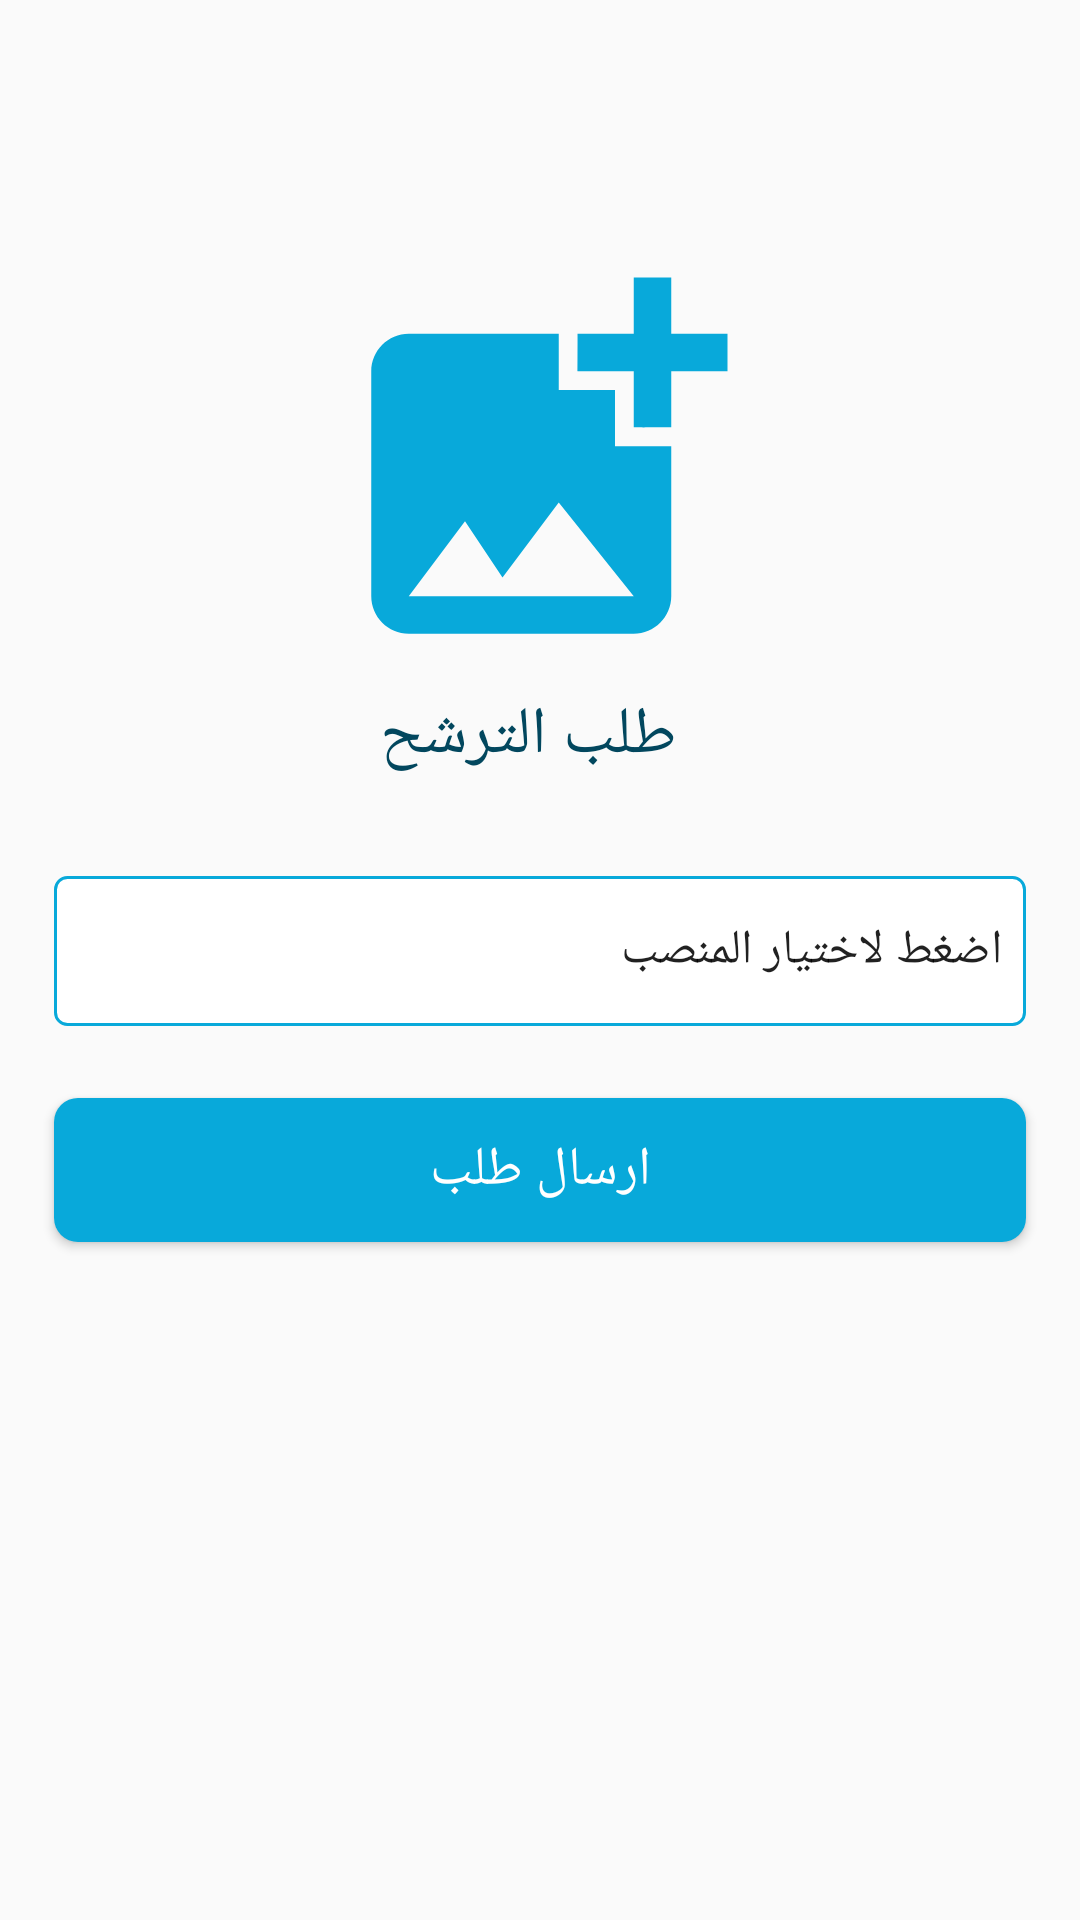

Named icons in this screenshot (1080*1920) and their centers, point (x, y):
add: point (549, 455)
